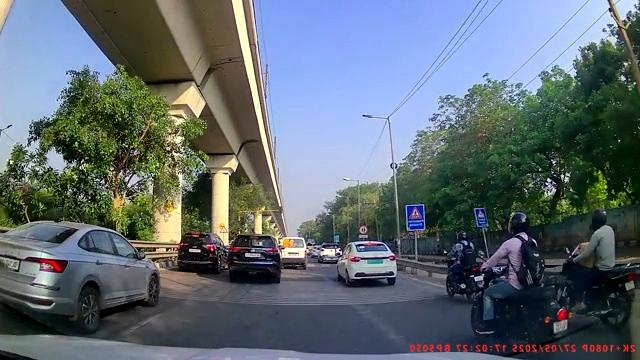motorcycle_with_helmet: (469, 210, 571, 343), (564, 209, 638, 329), (445, 229, 484, 301)
